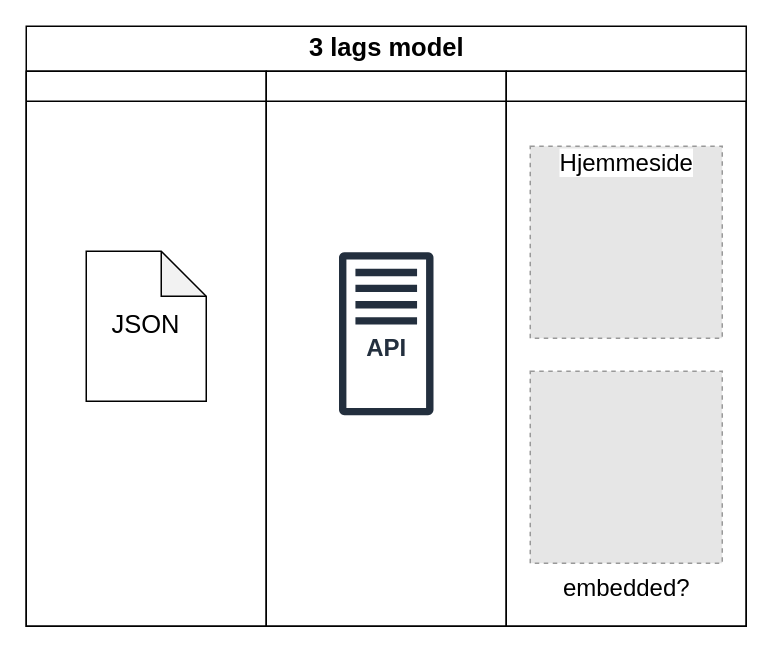
Image size: 773x653. Some labels were removed from this diagram. Grey dashed boxes stand in for pictures. The box of each missing label's shape, as (x1, y1, x2, y2) in pixels:
Business lag: (265, 70, 506, 626)
Data lag: (25, 70, 266, 626)
Præsentations lag: (505, 70, 746, 626)
